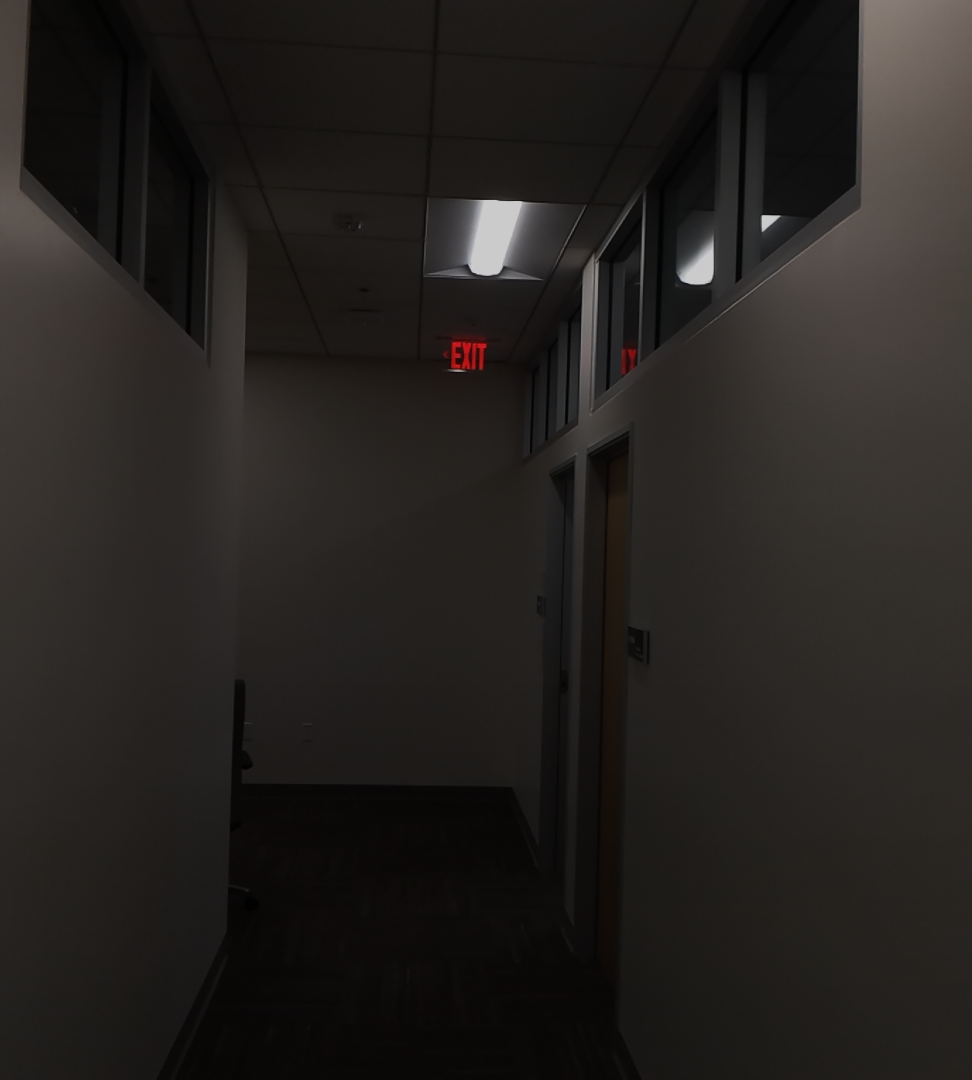emergency_exit: (440, 336, 490, 374)
